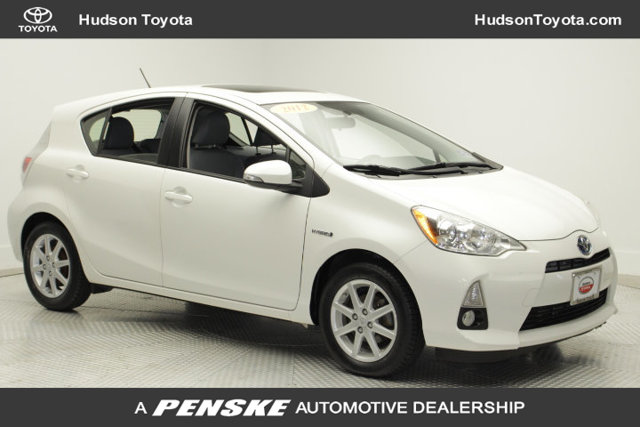Toyota Prius: (4, 79, 622, 383)
